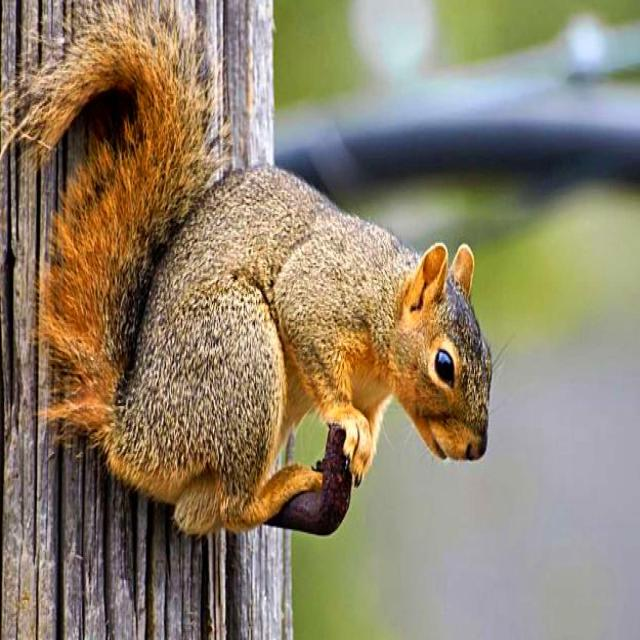squirrel: (2, 0, 492, 534)
